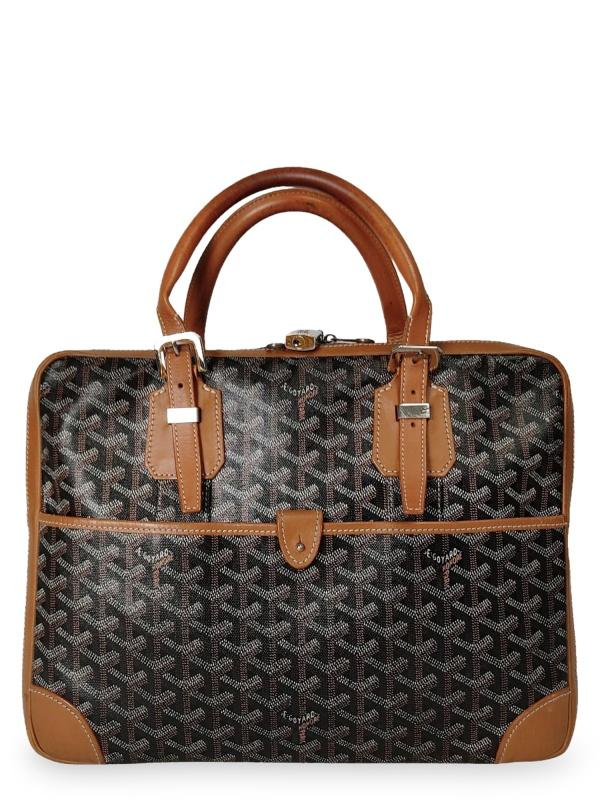GOYARD: (36, 353, 572, 762)
